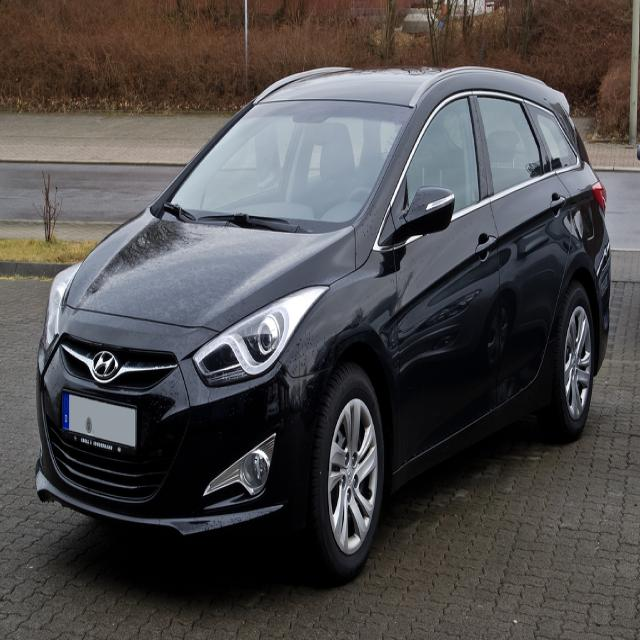car: (38, 74, 614, 576)
